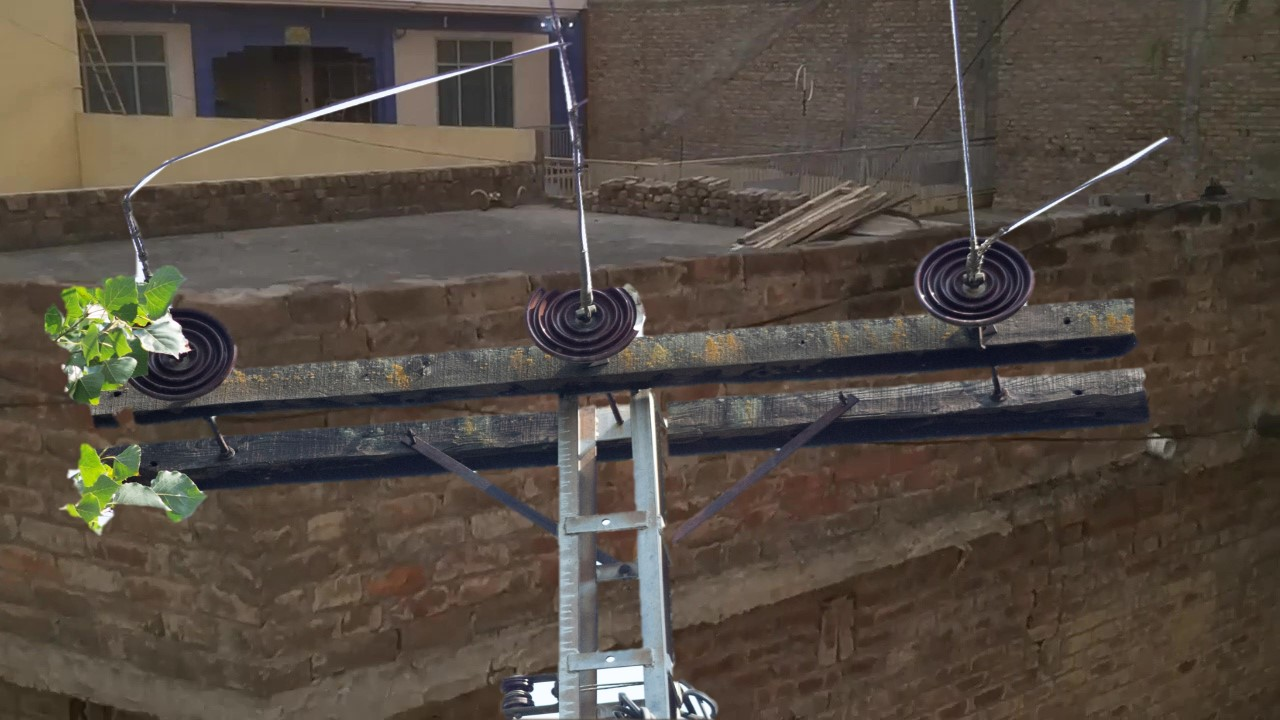defect_disc: (519, 277, 654, 365)
insulator_disc: (912, 232, 1041, 333), (133, 295, 239, 409)
